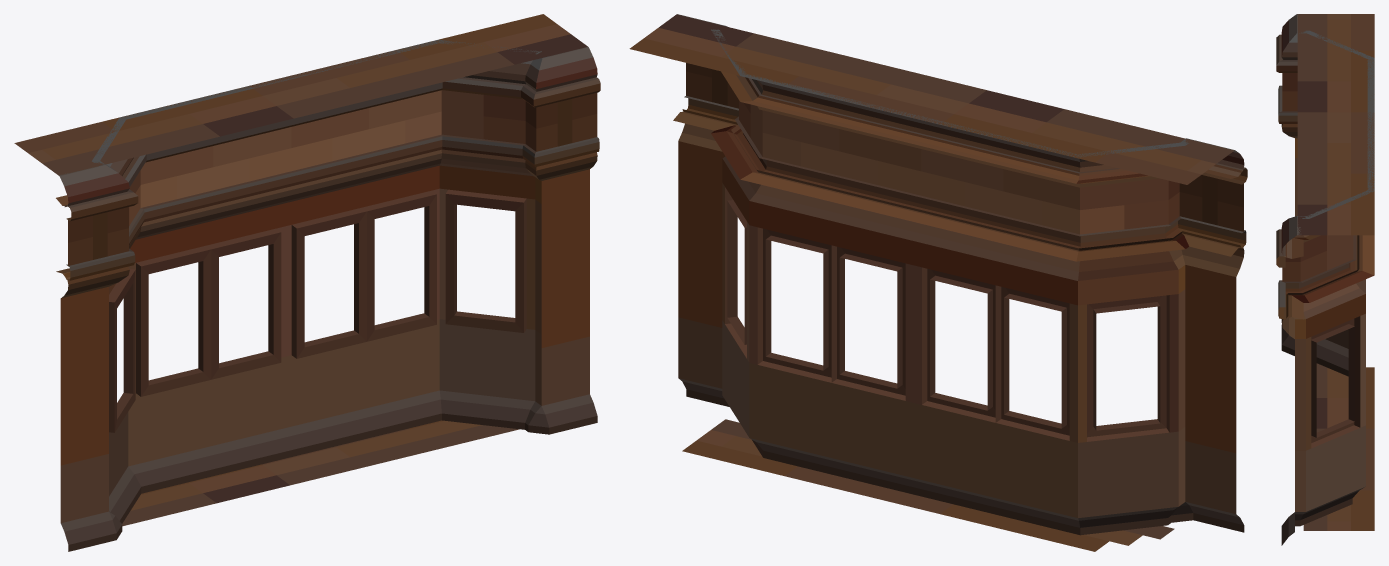
File: Wall_HomeA-4WindowB-6m.fbx
3 views of the same model, side by side, from view 1: azimuth 30°, elevation 25°; view 2: azimuth 150°, elevation 25°; view 3: azimuth 270°, elevation 25° (orthographic). The views are drawn at different scales.
Parts seen in each view (by area): view 1: Wall_HomeA-4WindowB-6m; view 2: Wall_HomeA-4WindowB-6m; view 3: Wall_HomeA-4WindowB-6m.
Part boxes in pixels (x1,y1,x2,y2): Wall_HomeA-4WindowB-6m: (14, 14, 600, 551); Wall_HomeA-4WindowB-6m: (629, 14, 1247, 551); Wall_HomeA-4WindowB-6m: (1276, 14, 1374, 545).
Size of the model in its own units: 600 by 400 by 112.
